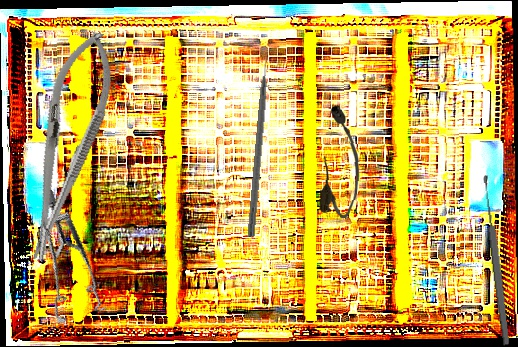Cannula: (318, 104, 364, 219)
Hook Surgical: (247, 51, 273, 238)
Needle Holder: (8, 24, 125, 268)
Speculum: (7, 188, 135, 336)
Surgical Spoon: (480, 174, 512, 346)
